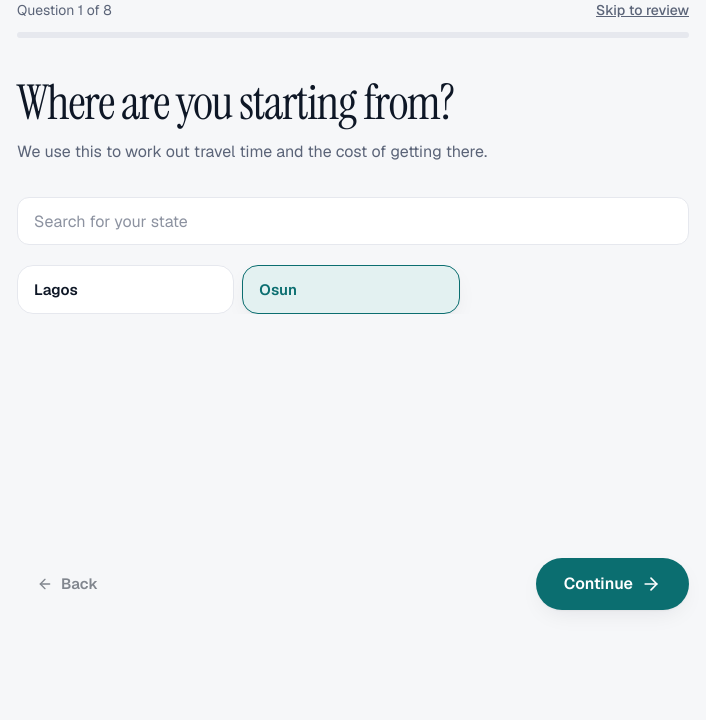
Test case: QuizPage › starts a new quiz from the saved home state and preferences
The width and height of the screenshot is (706, 720).
Expected: the heading "Where are you starting from?" is shown, [17,71,454,134]
Click the button "Skip to review" at [642, 10], box [596,0,689,20]
(page scrolled)
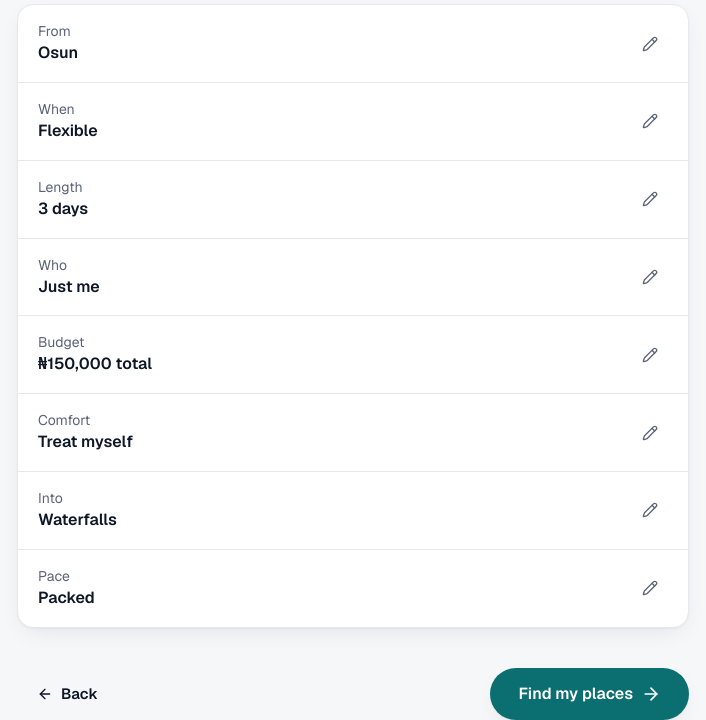
Result: the text "Treat myself" is shown at [38,430,133,455]
Result: the text "Waterfalls" is shown at [38,508,117,533]
